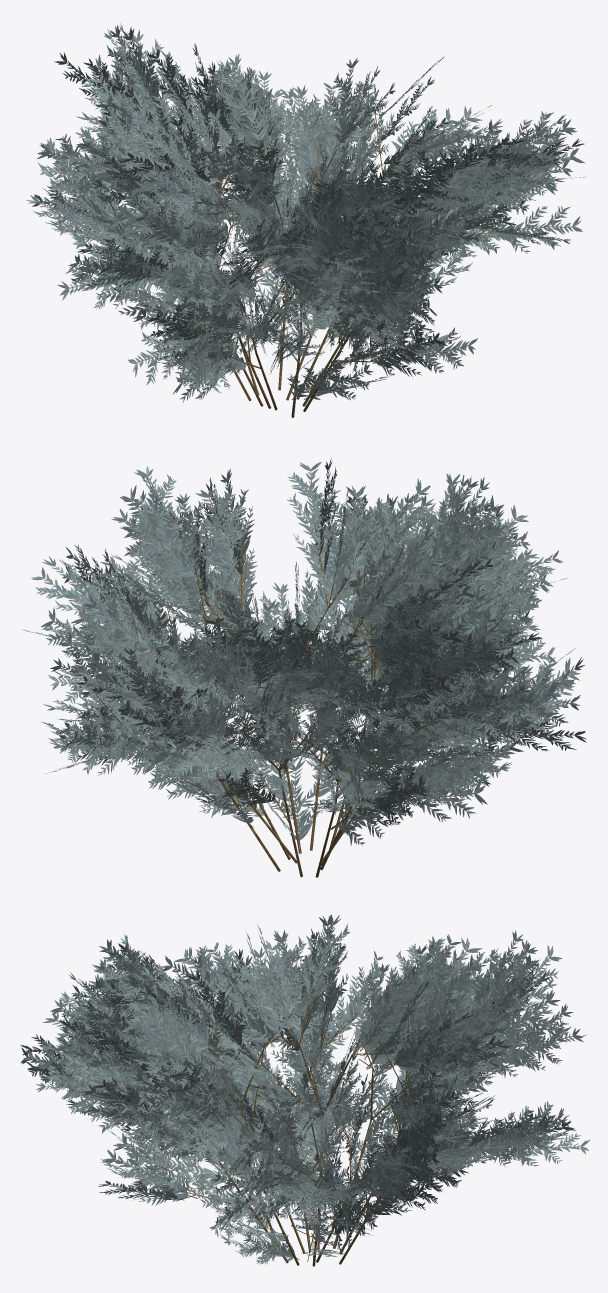
Rendered from sagebrush_grey_v02_LOD1.glb.
3 views of the same model, one above another, from view 1: azimuth 30°, elevation 25°; view 2: azimuth 150°, elevation 25°; view 3: azimuth 270°, elevation 25° (orthographic). The views are drawn at different scales.
Parts seen in each view (by area): view 1: sagebrush_grey_v02_LOD1; view 2: sagebrush_grey_v02_LOD1; view 3: sagebrush_grey_v02_LOD1.
Part boxes in pixels (box(x1,y1,x2,y2)): sagebrush_grey_v02_LOD1: box(26, 23, 585, 417); sagebrush_grey_v02_LOD1: box(23, 457, 586, 877); sagebrush_grey_v02_LOD1: box(20, 914, 589, 1266).
Bounding box in the file's own units: 1.35 × 0.85 × 1.38.
2 materials, 2 textured.
